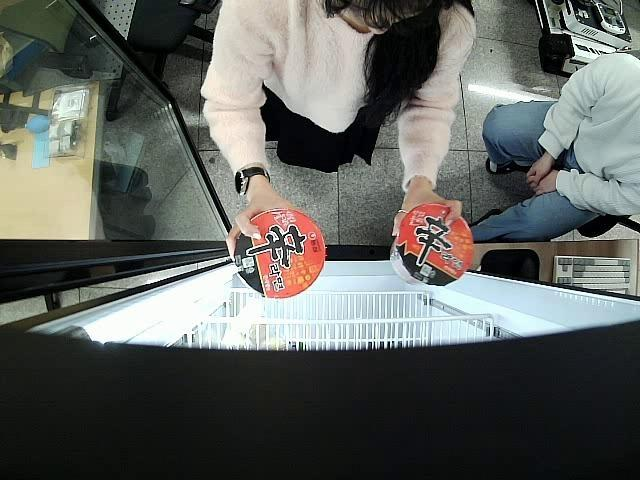01_ShinRamen_L: (235, 208, 326, 300), (386, 203, 476, 288)
